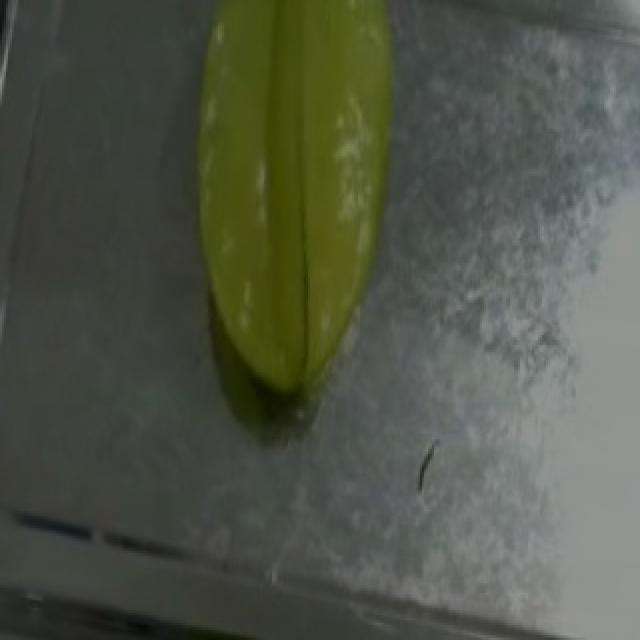fruit: (174, 0, 474, 372)
